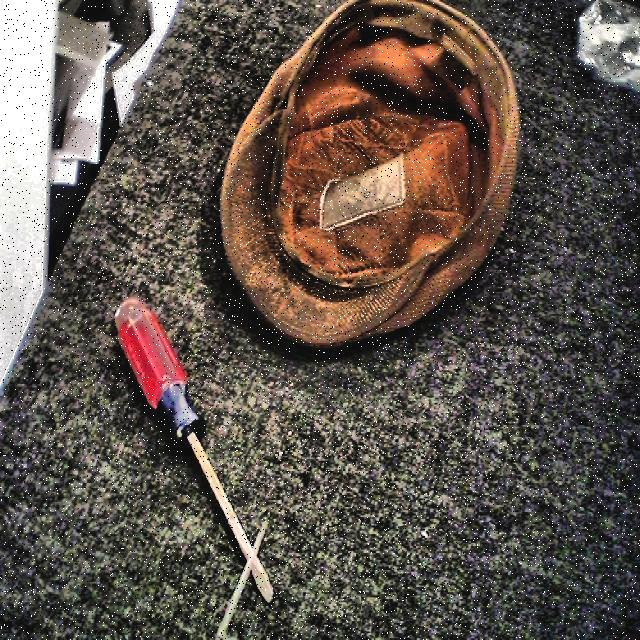screwdriver: (114, 300, 274, 602)
